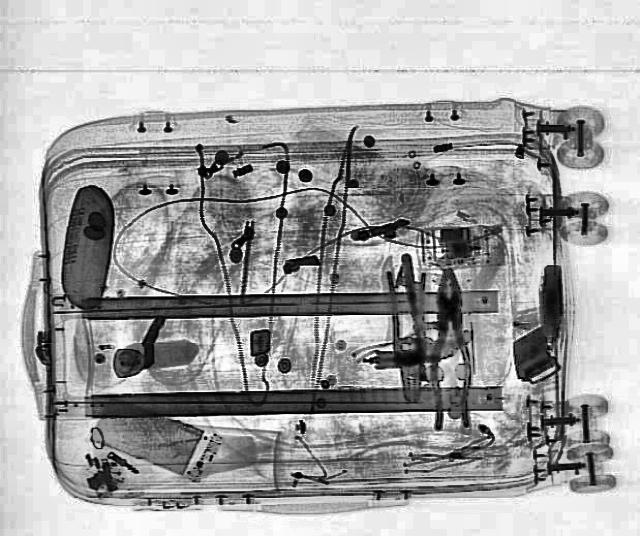Pliers: (426, 266, 472, 430), (384, 269, 431, 403)
